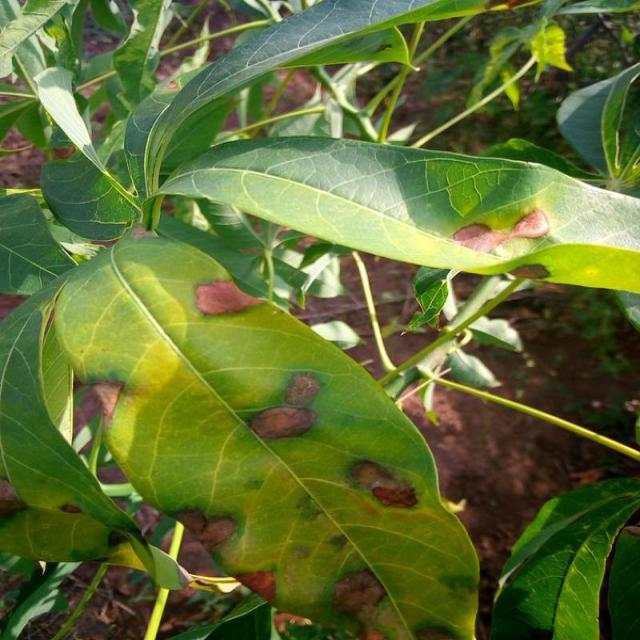cassava leaf: (49, 231, 480, 637), (146, 132, 640, 297)
